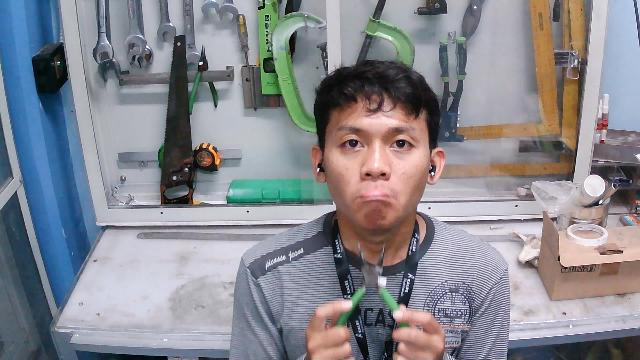tang_cucut_lancip_1: (326, 237, 420, 355)
